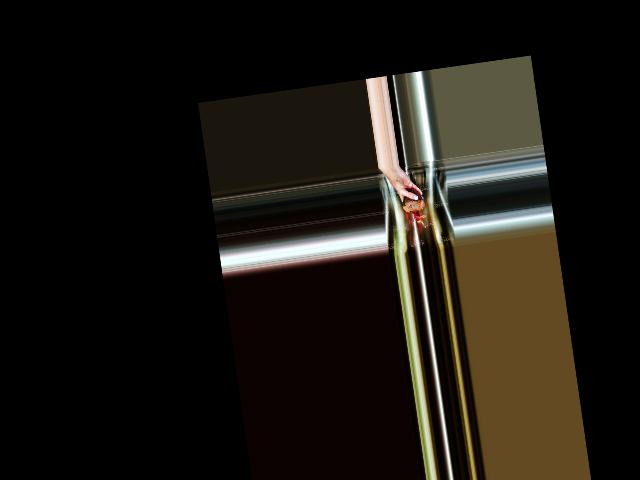beet: (401, 186, 428, 230)
